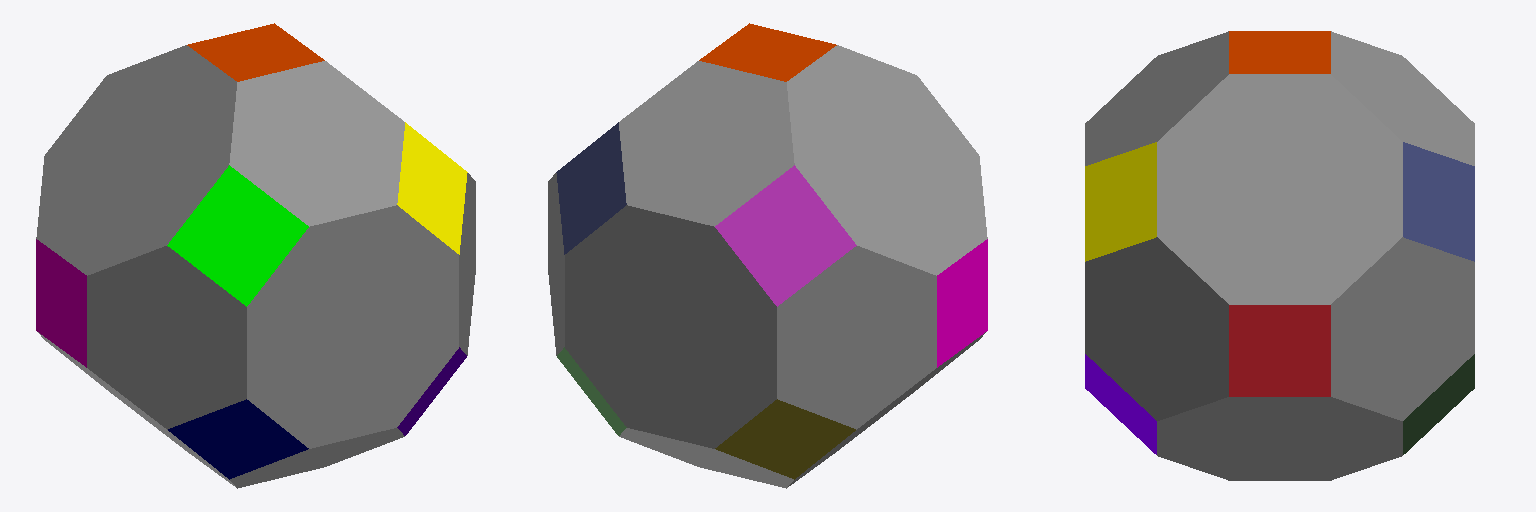
Rendered from catom3D_picking.obj.
The picture shows the model from 3 angles: view 1: azimuth 30°, elevation 25°; view 2: azimuth 150°, elevation 25°; view 3: azimuth 270°, elevation 25°; orthographic projection.
Parts seen in each view (by area): view 1: catom_picking; view 2: catom_picking; view 3: catom_picking.
Part boxes in pixels (x1,y1,x2,y2): catom_picking: (36,23,475,488); catom_picking: (548,23,987,488); catom_picking: (1085,31,1474,480).
Bounding box in the file's own units: 10 × 10 × 8.67.